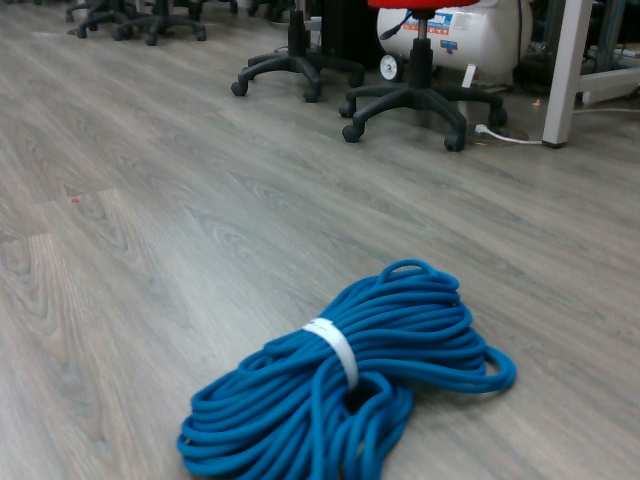rope: (175, 258, 521, 480)
